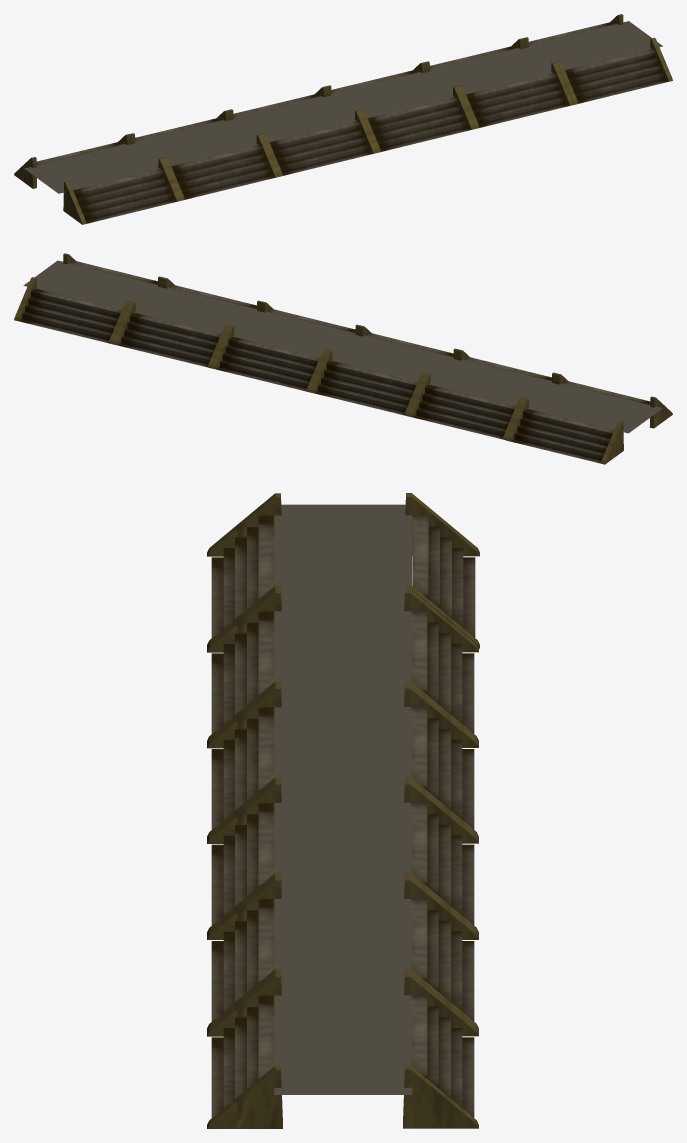
The model's file is Crypt_Ladder_Floor3.fbx.
3 views of the same model, one above another, from view 1: azimuth 30°, elevation 25°; view 2: azimuth 150°, elevation 25°; view 3: azimuth 270°, elevation 25° (orthographic). The views are drawn at different scales.
Parts seen in each view (by area): view 1: Crypt_Ladder_Floor; view 2: Crypt_Ladder_Floor; view 3: Crypt_Ladder_Floor.
Part boxes in pixels (bbox=[...]): Crypt_Ladder_Floor: bbox=[14, 14, 672, 224]; Crypt_Ladder_Floor: bbox=[14, 253, 672, 464]; Crypt_Ladder_Floor: bbox=[207, 493, 479, 1128].
Bounding box in the file's own units: 2683 × 130 × 524.
